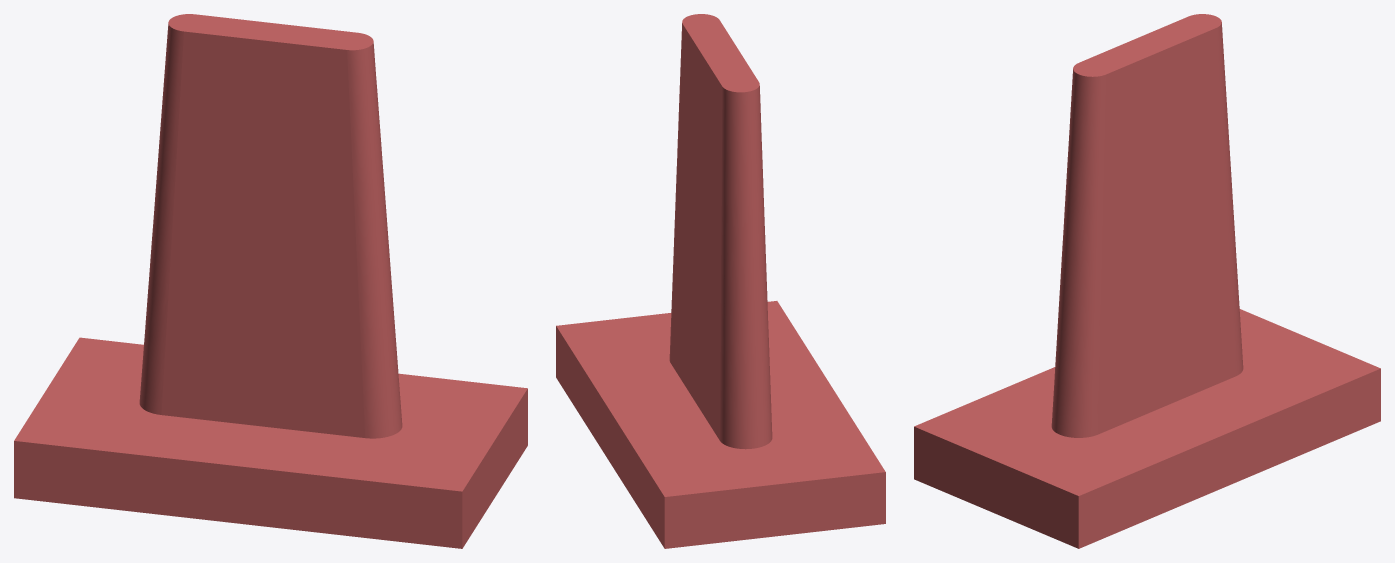
The model's file is bridge3_piers.obj.
3 renders of one model, left to right at view 1: azimuth 30°, elevation 25°; view 2: azimuth 150°, elevation 25°; view 3: azimuth 270°, elevation 25°, orthographic. The views are drawn at different scales.
Parts seen in each view (by area): view 1: mesh_0; view 2: mesh_0; view 3: mesh_0.
Boxes of the visible parts, box(x1,y1,x2,y2) form: mesh_0: box(14, 14, 527, 548); mesh_0: box(556, 14, 885, 548); mesh_0: box(914, 14, 1380, 548).
Bounding box in the file's own units: 12.02 × 11.5 × 12.02.
